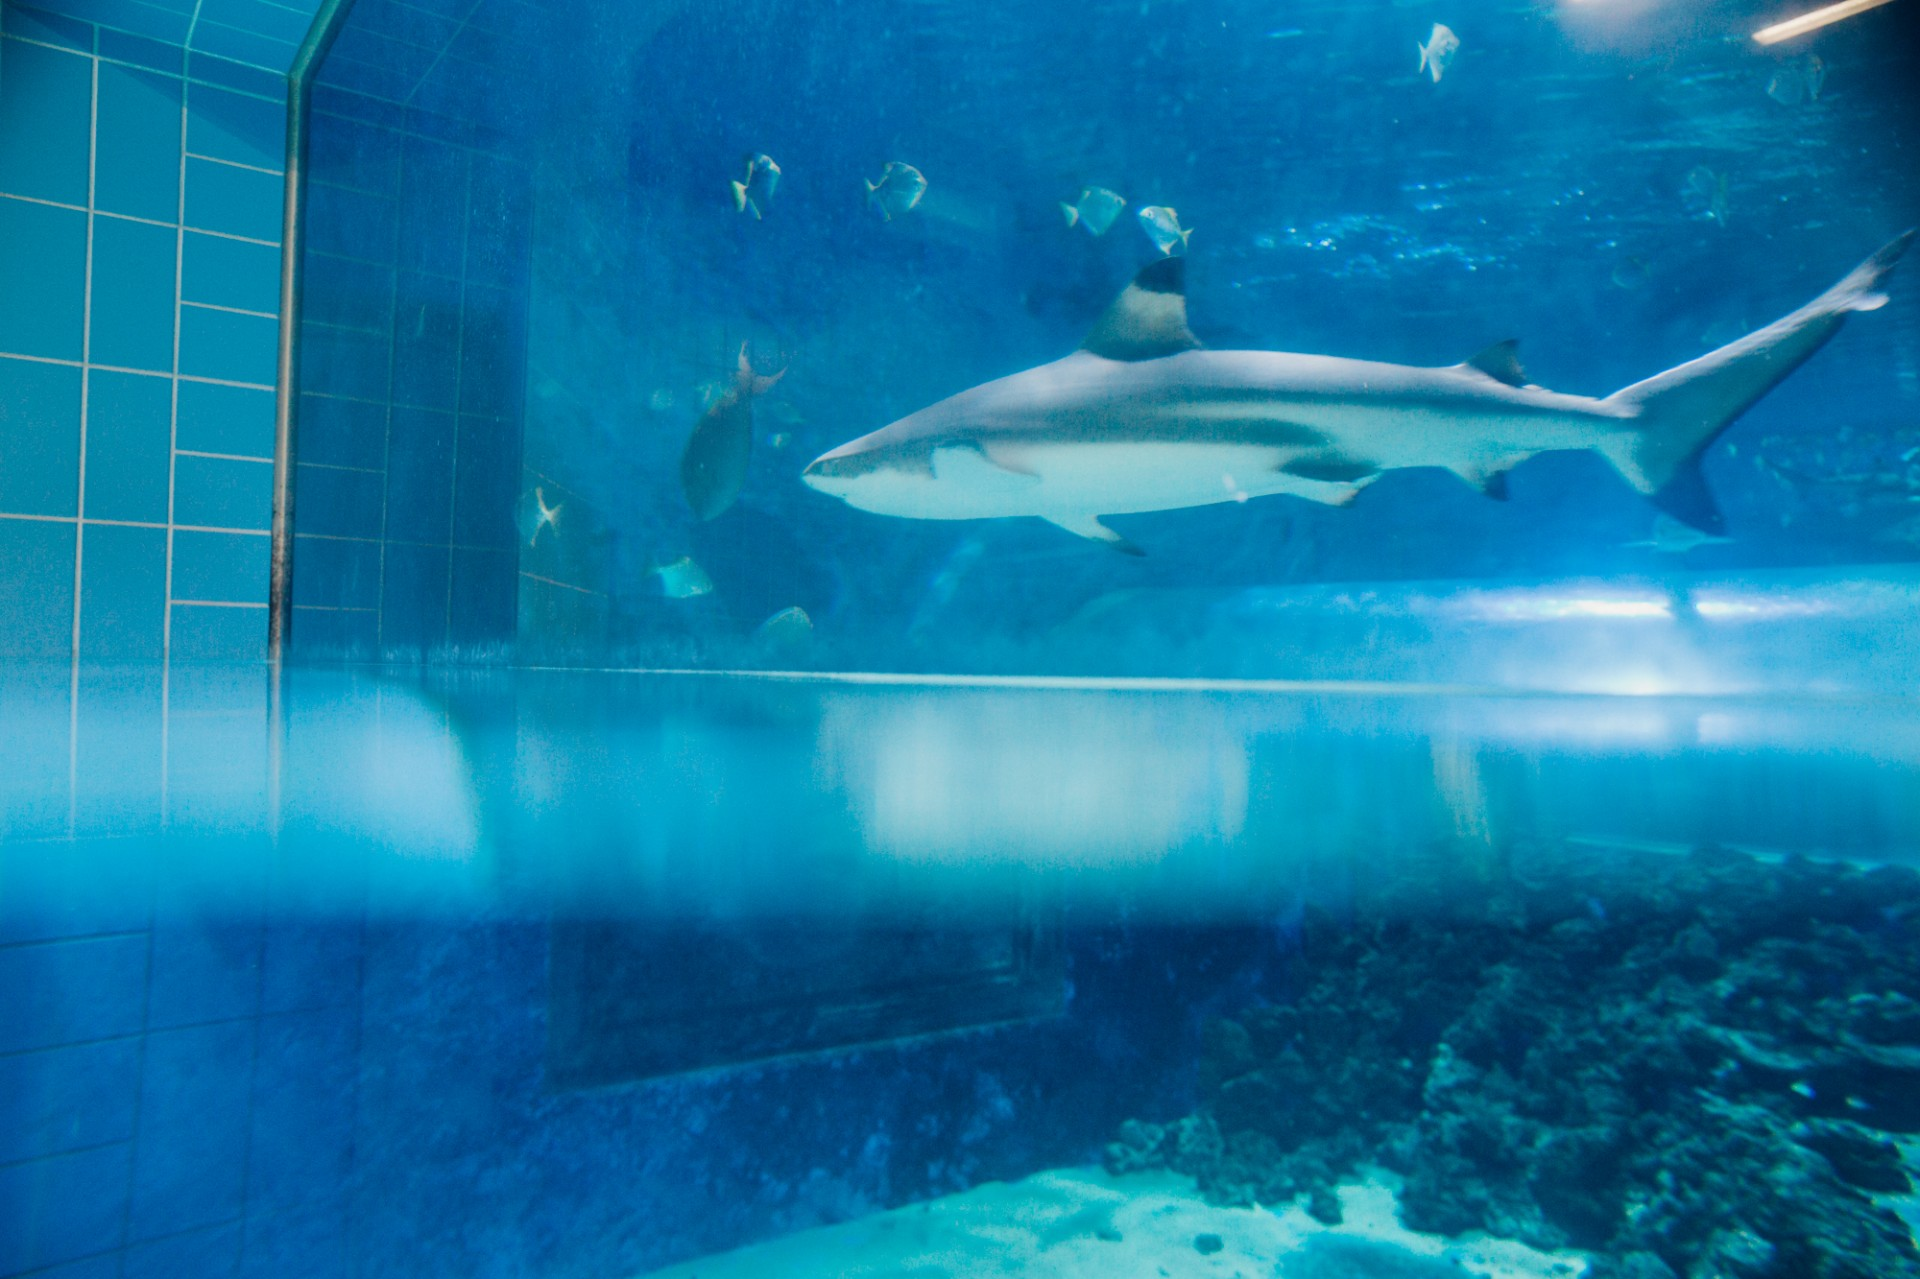shark: (798, 223, 1920, 552)
